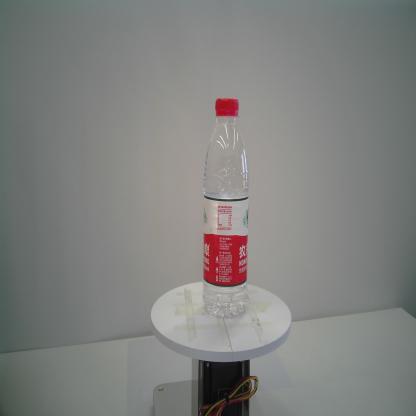Drink: (200, 95, 252, 321)
